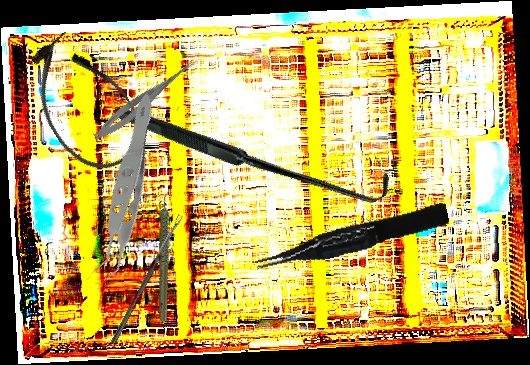Cannula: (11, 22, 156, 185)
Handpiece: (131, 187, 201, 324)
Hook Surgical: (113, 6, 396, 294)
Micro Scissor: (90, 52, 200, 145)
Surgical Spoon: (110, 214, 184, 346)
Tissue Forceps: (22, 92, 221, 293), (251, 202, 452, 274)
